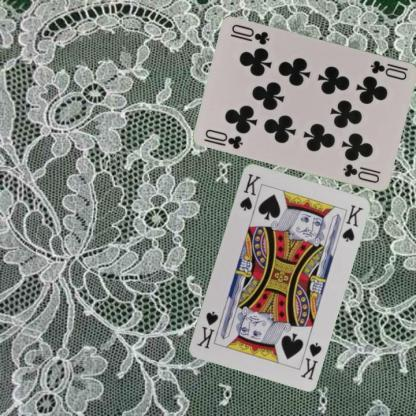10c: (202, 126, 244, 150), (368, 57, 408, 82)
Ks: (237, 170, 262, 212), (298, 339, 323, 381)
